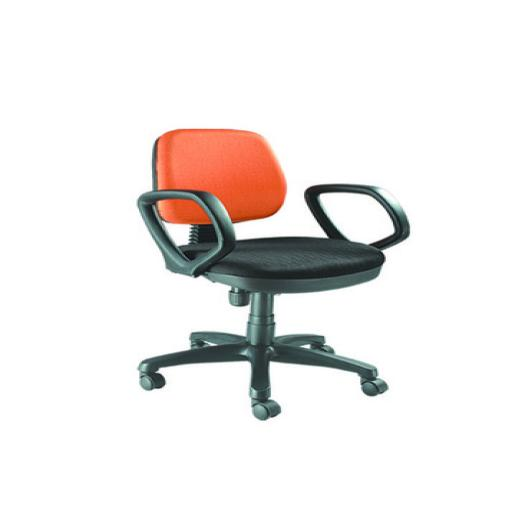chair: (91, 120, 441, 428)
